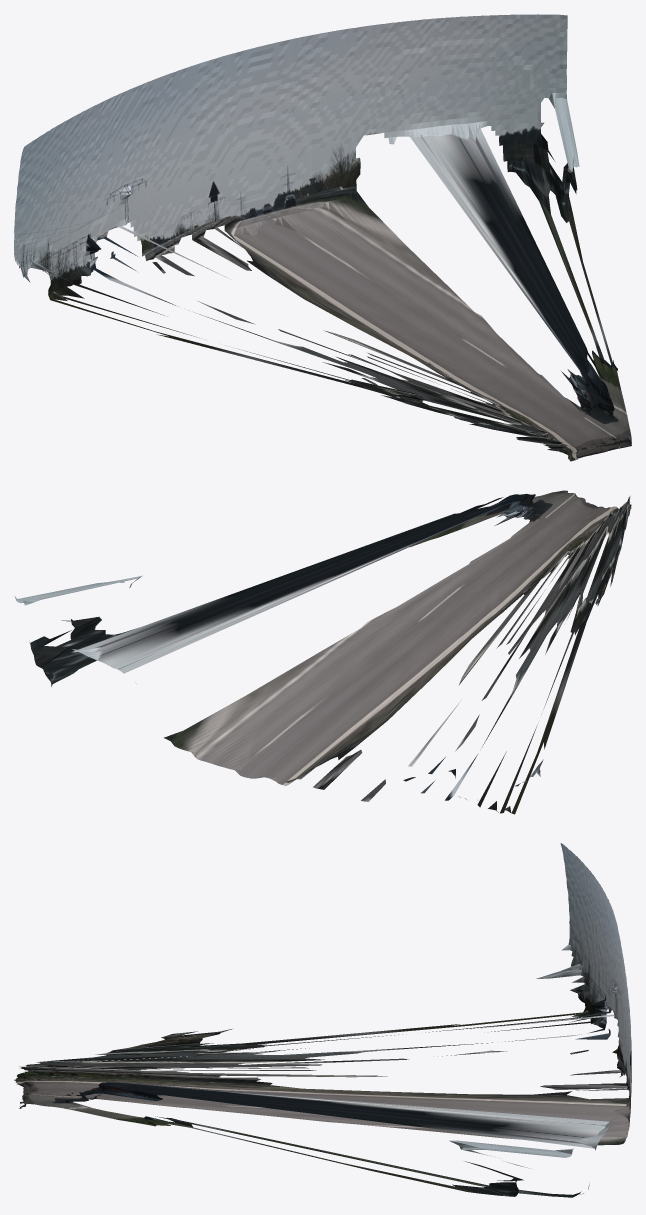
3 views of the same model, one above another, from view 1: azimuth 30°, elevation 25°; view 2: azimuth 150°, elevation 25°; view 3: azimuth 270°, elevation 25° (orthographic). The views are drawn at different scales.
Visible parts, largest first — view 1: defaultobject; view 2: defaultobject; view 3: defaultobject.
Part boxes in pixels (<box>): defaultobject: <box>14,14,631,461</box>; defaultobject: <box>14,490,631,814</box>; defaultobject: <box>14,843,631,1197</box>.
Bounding box in the file's own units: 41.09 × 13.27 × 44.7.
1 material, 1 textured.
